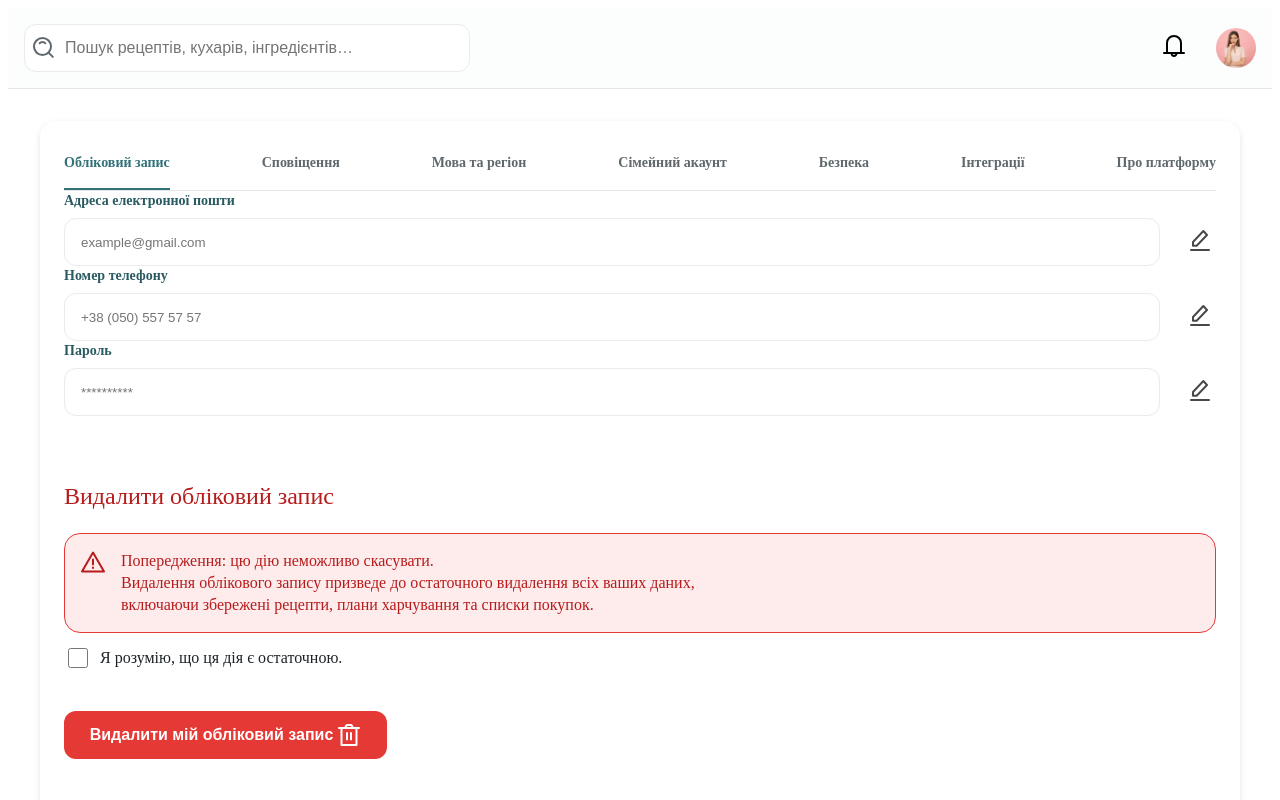
SettingsPage full tests › can open add family member form
The width and height of the screenshot is (1280, 800).
Click the list item "Сімейний акаунт": x=673, y=162 [618,155,727,170]
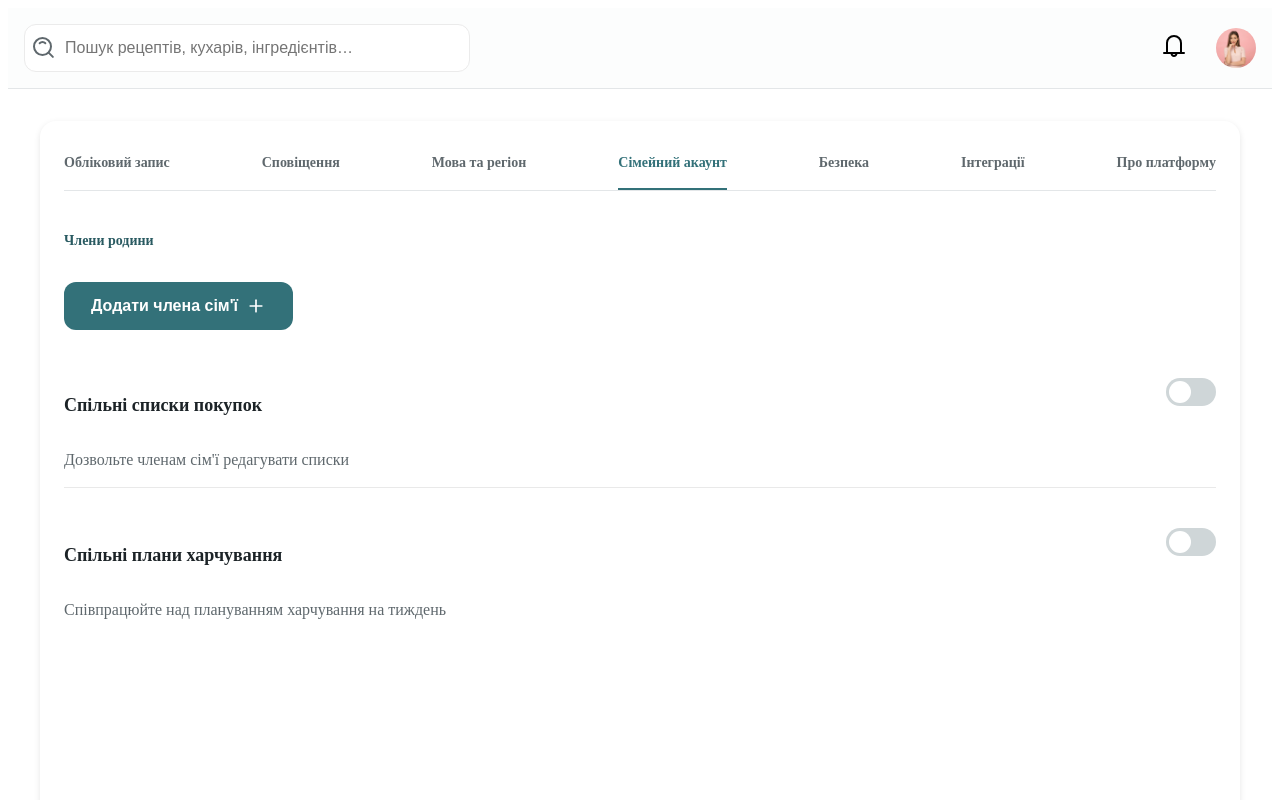
Click the button "Додати члена сім'ї": x=178, y=306 [64,282,293,330]
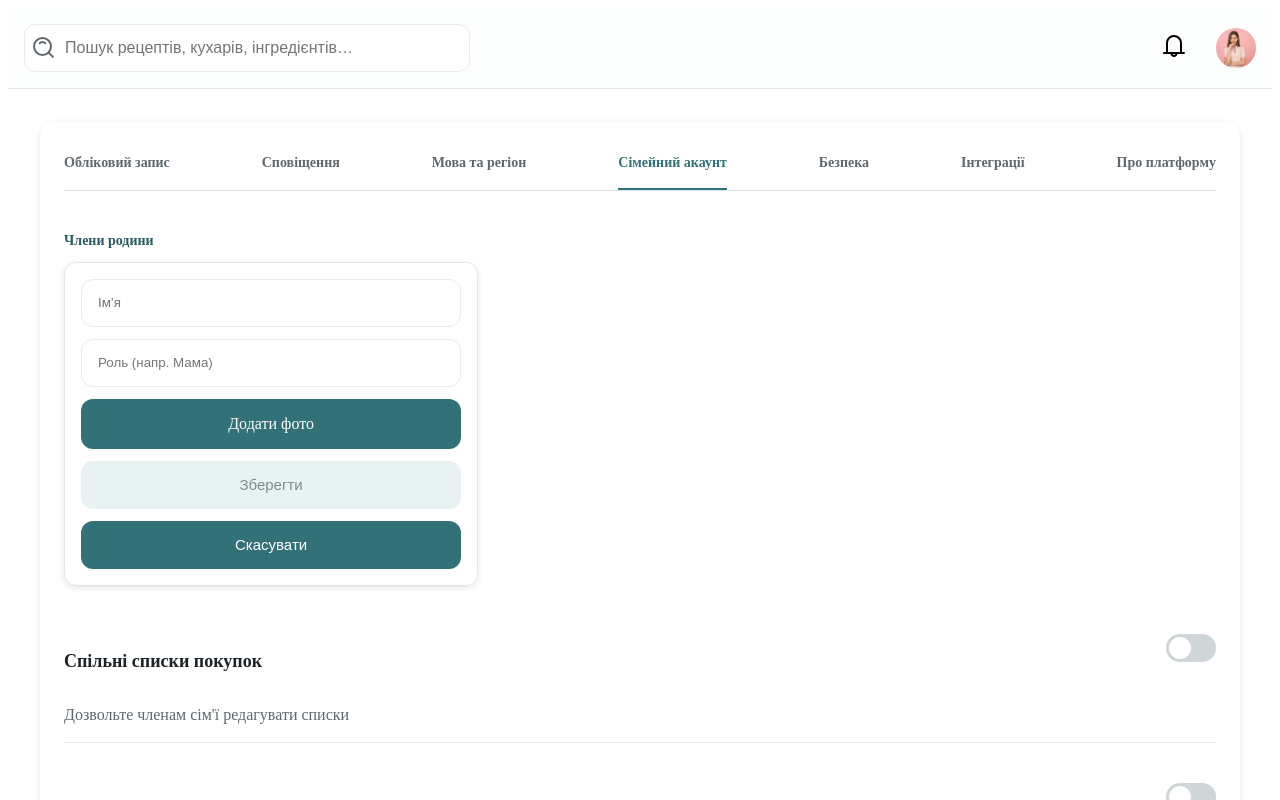
Check: the field with placeholder "Ім’я" is shown, box [81,279,461,327]
Check: the field with placeholder "Роль (напр. Мама)" is shown, box [81,339,461,387]
